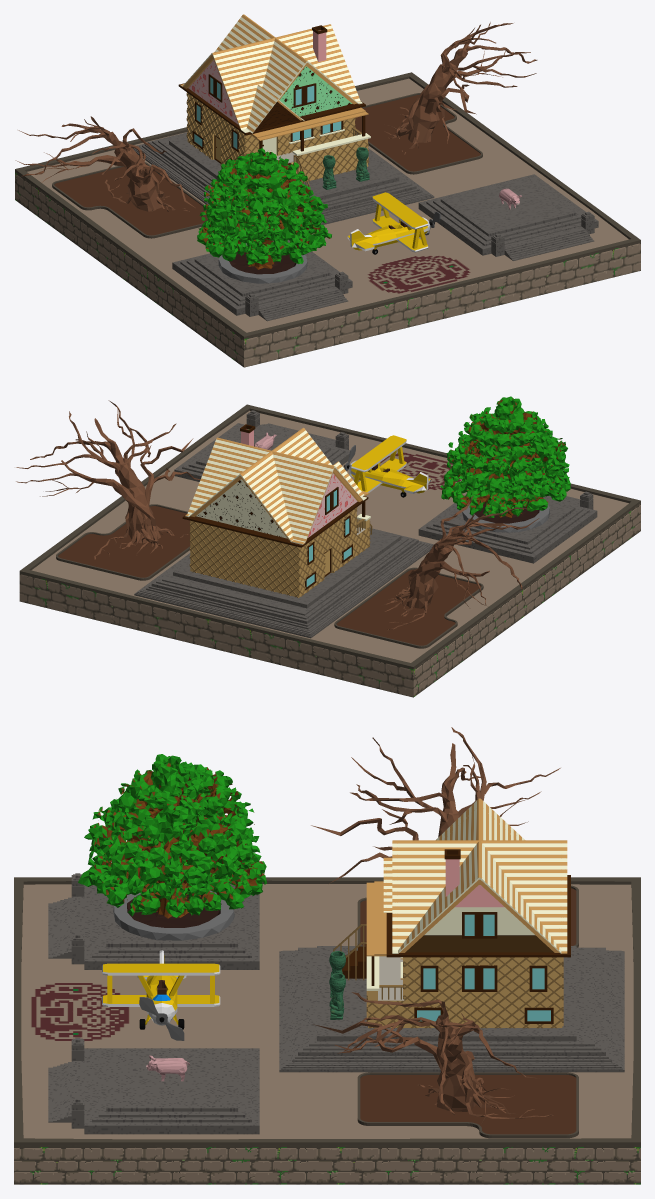
3 renders of one model, top to bottom at view 1: azimuth 30°, elevation 25°; view 2: azimuth 150°, elevation 25°; view 3: azimuth 270°, elevation 25°, orthographic. The views are drawn at different scales.
Visible parts, largest first — view 1: Cube.011, Cube.1102, OBJRANDOM_CEIBA, VEHICLES_AIRPLANE; view 2: Cube.011, Cube.1102, OBJRANDOM_CEIBA, VEHICLES_AIRPLANE; view 3: Cube.011, Cube.1102, OBJRANDOM_CEIBA, VEHICLES_AIRPLANE, ANIMAL_CERDO.
Part boxes in pixels (x1,y1,x2,y2): Cube.011: (15, 22, 640, 367); Cube.1102: (178, 14, 370, 186); OBJRANDOM_CEIBA: (197, 148, 331, 283); VEHICLES_AIRPLANE: (347, 192, 440, 254); Cube.011: (16, 400, 640, 697); Cube.1102: (182, 424, 372, 597); OBJRANDOM_CEIBA: (440, 396, 570, 532); VEHICLES_AIRPLANE: (344, 435, 430, 497); Cube.011: (14, 727, 640, 1184); Cube.1102: (333, 798, 570, 1028); OBJRANDOM_CEIBA: (78, 754, 266, 940); VEHICLES_AIRPLANE: (102, 950, 220, 1040); ANIMAL_CERDO: (145, 1055, 189, 1081).
Bounding box in the file's own units: 5099 × 1812 × 4000.
37 materials, 6 textured.
